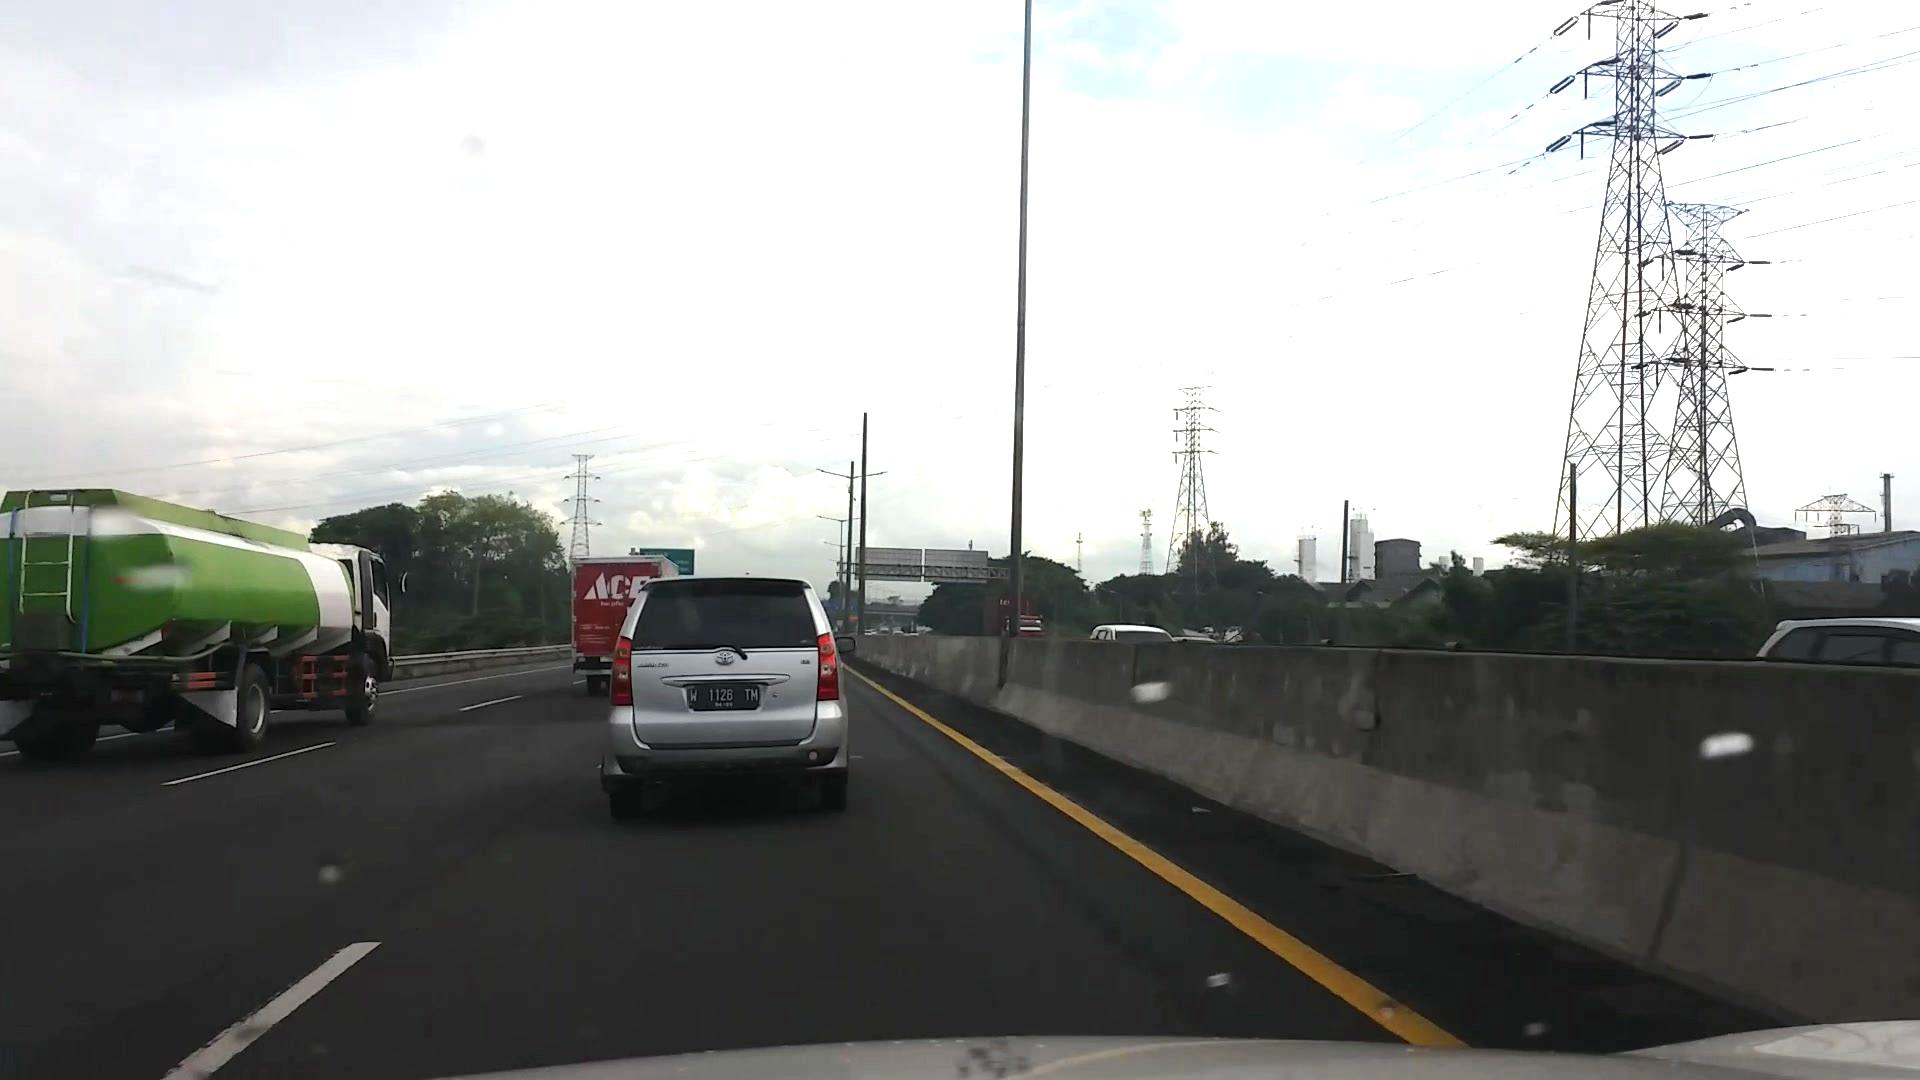plate_positive: (688, 686, 760, 711)
